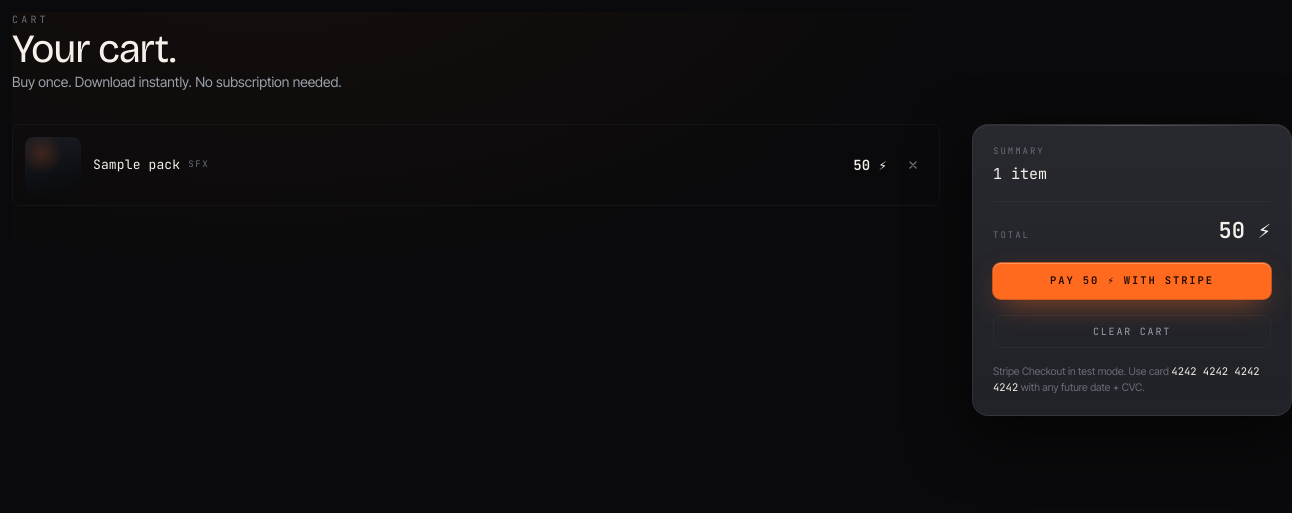
Test: Cart page › Checkout shows error state on API failure
Click the button with test id "cart-checkout" at (1132, 281), box [993,263,1271,299]
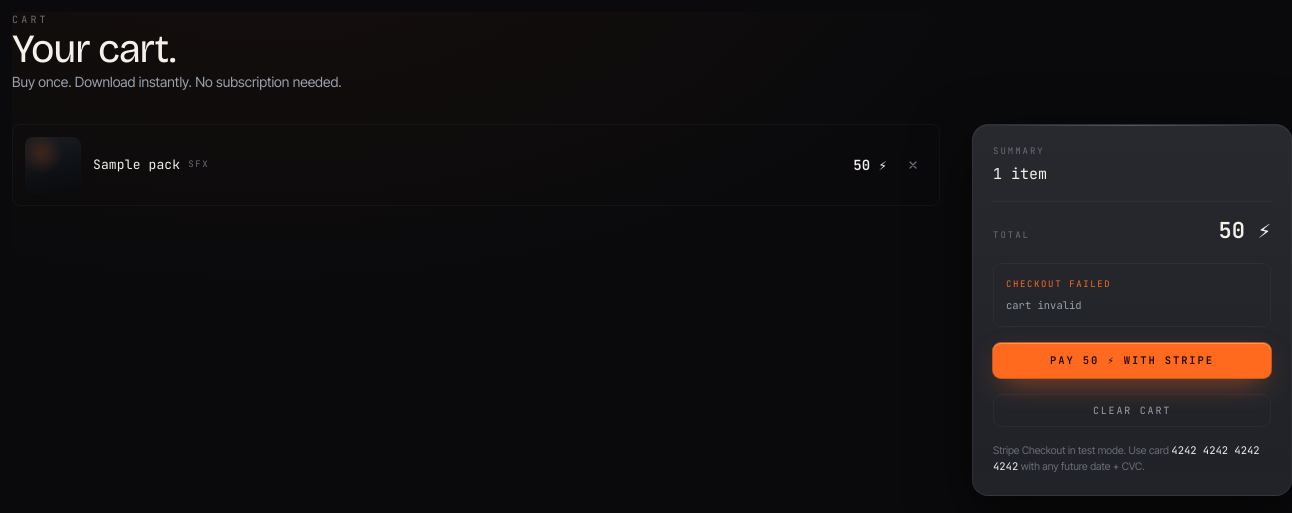
Expected: the element with test id "cart-error" is shown, [993,263,1271,326]
Expected: the element with test id "cart-error" shows "cart invalid", [1006,298,1082,312]
